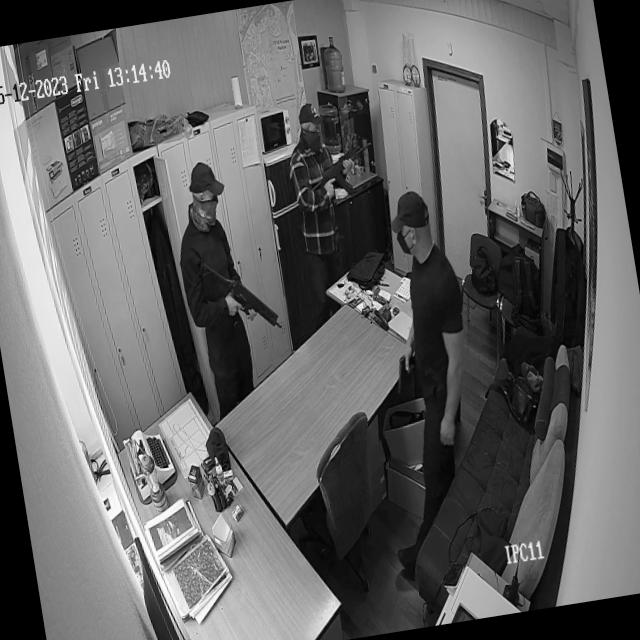gun: (196, 247, 284, 344), (304, 140, 379, 204), (391, 348, 419, 397)
person with a gun: (378, 187, 488, 502), (166, 159, 262, 398), (281, 101, 353, 300)
